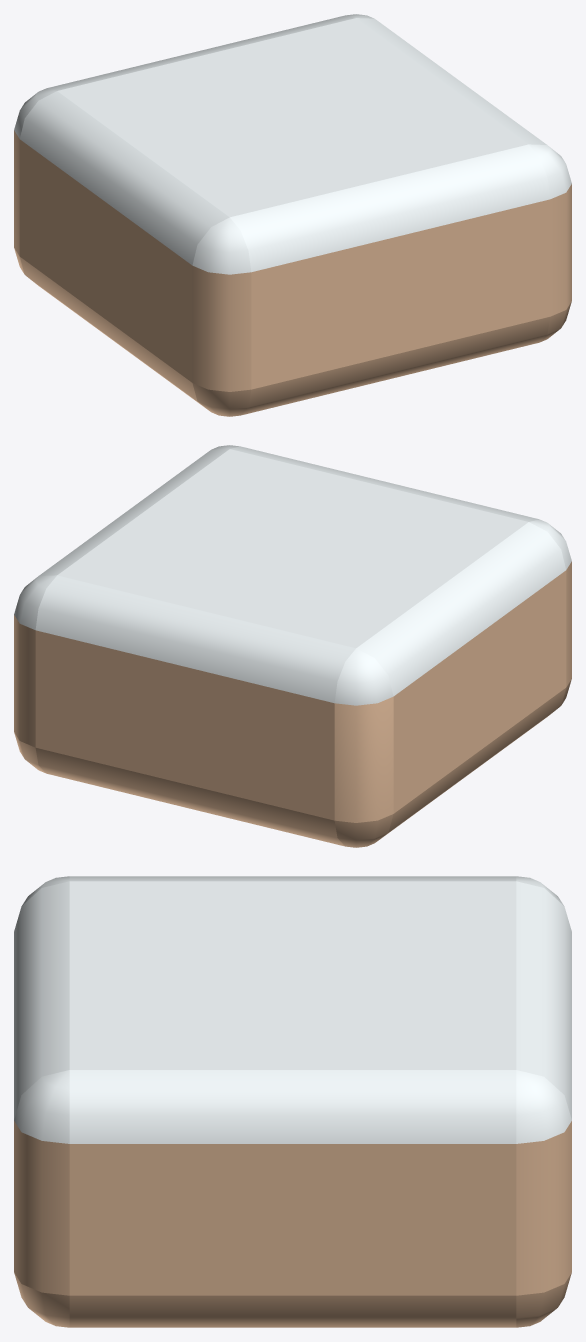
The picture shows the model from 3 angles, top to bottom: view 1: azimuth 30°, elevation 25°; view 2: azimuth 150°, elevation 25°; view 3: azimuth 270°, elevation 25°; orthographic projection. The views are drawn at different scales.
Visible parts, largest first — view 1: blockSnowRoundedLow; view 2: blockSnowRoundedLow; view 3: blockSnowRoundedLow.
Part boxes in pixels (x1,y1,x2,y2): blockSnowRoundedLow: (14,14,571,416); blockSnowRoundedLow: (14,445,571,847); blockSnowRoundedLow: (14,876,571,1327).
Bounding box in the file's own units: 1 × 0.5 × 1.
